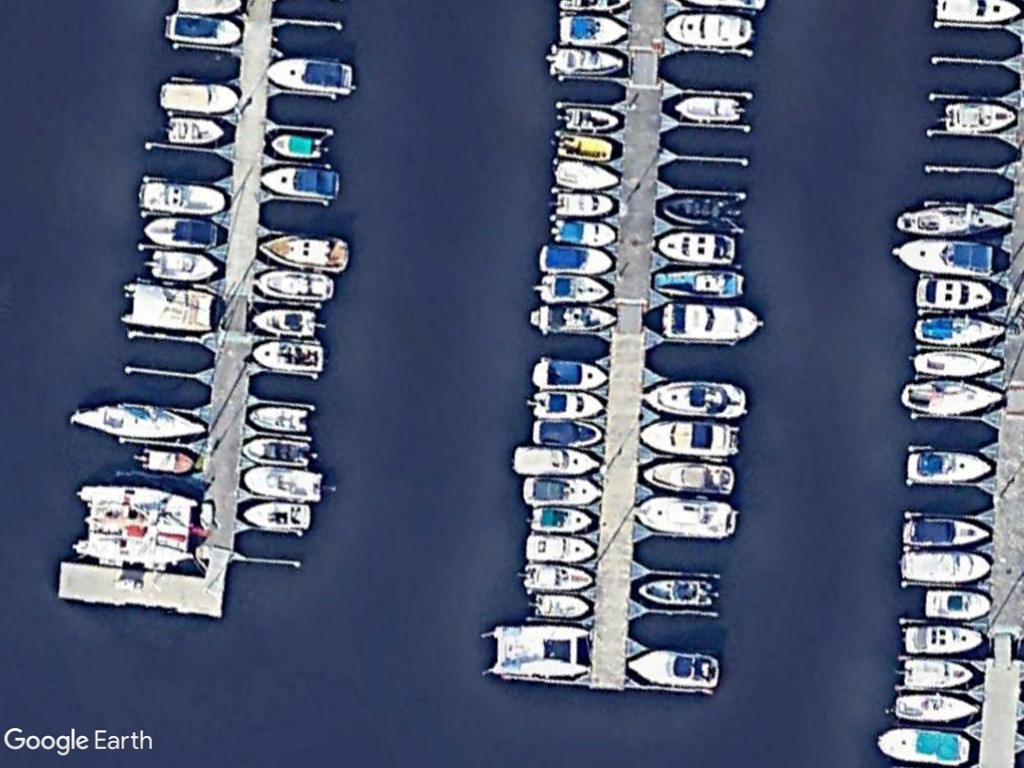boat: (65, 399, 208, 448), (639, 299, 761, 346), (630, 493, 744, 541), (872, 718, 974, 768), (886, 235, 998, 279), (636, 414, 744, 459), (898, 376, 1007, 420), (625, 646, 723, 691), (638, 379, 752, 417), (891, 202, 1015, 236), (256, 231, 353, 273), (641, 458, 740, 498), (898, 543, 993, 584), (663, 8, 760, 48), (254, 159, 344, 202), (649, 263, 749, 301), (263, 57, 358, 96), (520, 468, 606, 511), (247, 262, 335, 304), (509, 442, 606, 480), (899, 512, 991, 552), (912, 310, 1009, 347), (135, 178, 227, 217), (903, 447, 995, 486), (543, 39, 630, 80), (657, 188, 744, 229), (655, 228, 742, 269), (900, 617, 986, 658), (912, 270, 995, 312), (240, 462, 325, 503), (908, 345, 1006, 380), (891, 689, 983, 726), (160, 9, 246, 48), (940, 96, 1019, 138), (237, 429, 316, 470), (632, 575, 726, 609), (527, 301, 618, 336), (896, 656, 979, 694), (530, 357, 613, 394), (156, 79, 241, 115), (524, 388, 609, 424), (142, 213, 221, 251), (528, 412, 604, 451), (554, 11, 633, 48), (536, 242, 617, 278), (670, 90, 745, 128), (920, 585, 997, 622), (238, 497, 313, 534), (516, 561, 597, 595), (144, 247, 222, 282), (545, 214, 620, 250), (250, 338, 327, 373), (551, 156, 622, 193), (522, 531, 597, 566), (532, 271, 611, 304), (524, 501, 597, 535), (249, 306, 320, 340), (161, 110, 227, 145), (550, 185, 617, 219), (528, 587, 595, 621), (245, 403, 314, 436), (551, 130, 618, 162), (269, 132, 330, 162), (560, 104, 623, 133)
